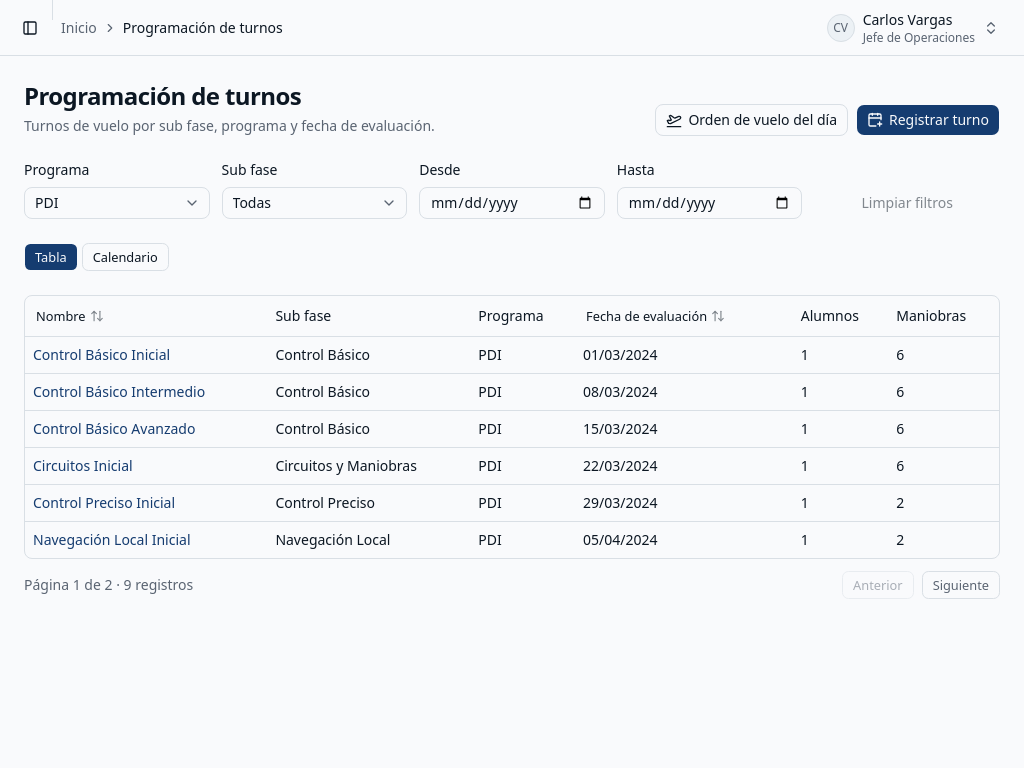
Test: Programación de turnos › CA-TUR-01 pagina y conserva la página en la URL
Expected: the text "Página 1 de 2 · 9 registros" is shown, [24, 575, 193, 595]
Click the button "Siguiente": (961, 585) [922, 571, 1000, 599]
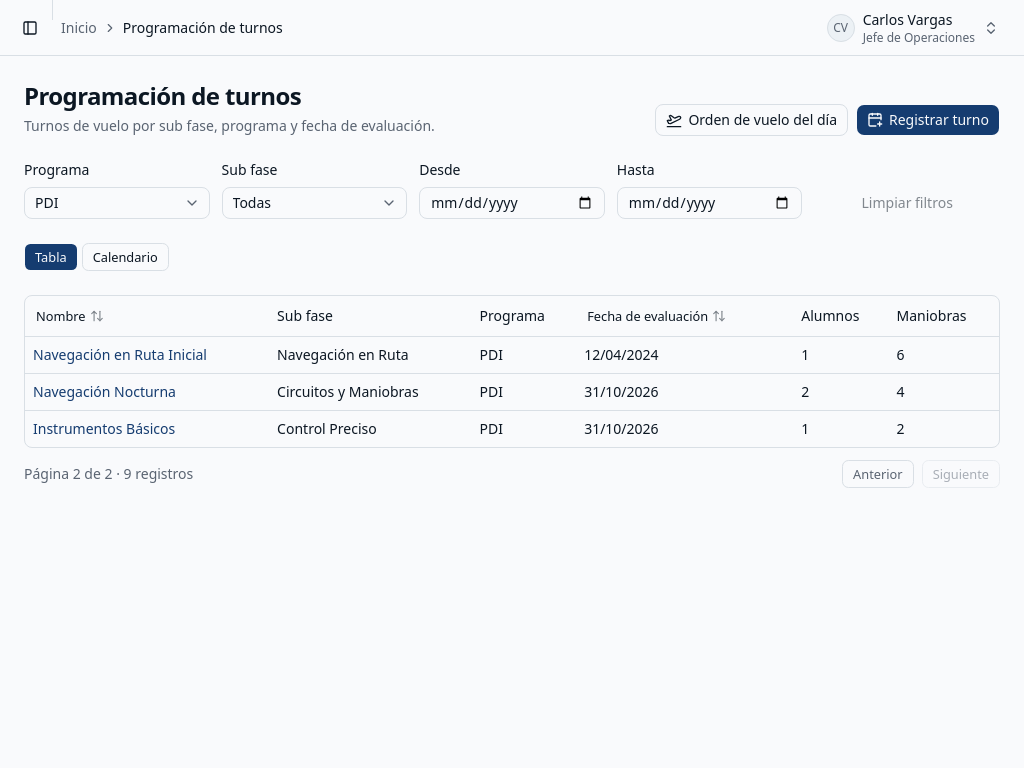
Result: the text "Página 2 de 2 · 9 registros" is shown at [24, 464, 193, 484]
